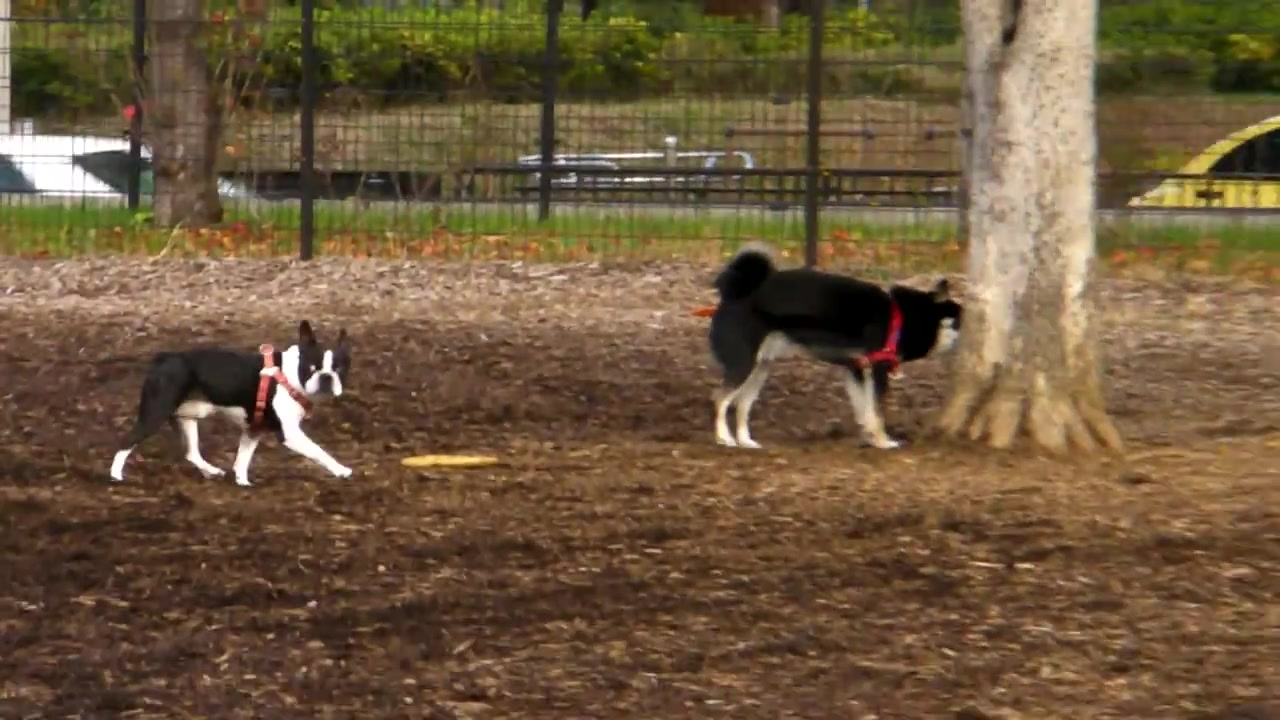dog: (108, 321, 357, 489)
